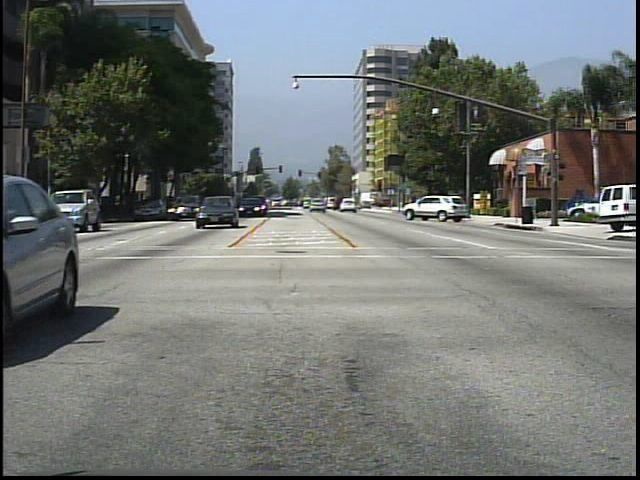person: (446, 188, 462, 220), (424, 188, 441, 215)
